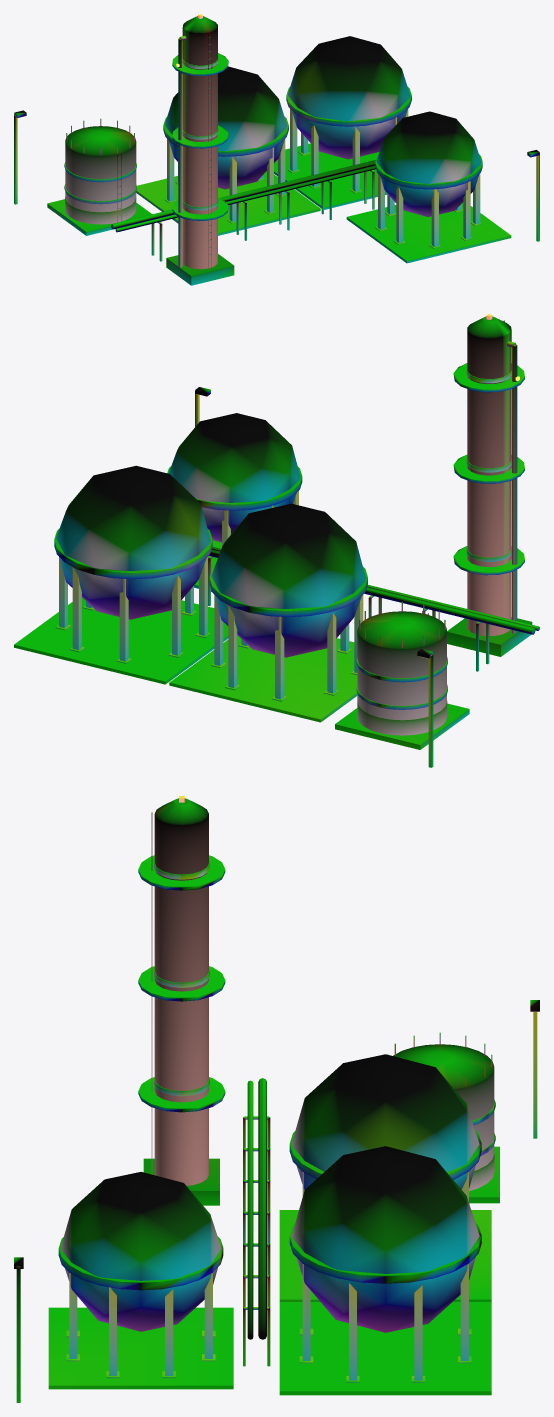
File: Ind_Spheres_V6.fbx
3 renders of one model, top to bottom at view 1: azimuth 30°, elevation 25°; view 2: azimuth 150°, elevation 25°; view 3: azimuth 270°, elevation 25°, orthographic. The views are drawn at different scales.
Parts seen in each view (by area): view 1: Ind_Spheres_V6_LOD0; view 2: Ind_Spheres_V6_LOD0; view 3: Ind_Spheres_V6_LOD0.
Part boxes in pixels (x1,y1,x2,y2): Ind_Spheres_V6_LOD0: (14, 14, 539, 285); Ind_Spheres_V6_LOD0: (14, 314, 539, 767); Ind_Spheres_V6_LOD0: (14, 796, 539, 1402).
Size of what is drawn, in the model's own units: 46.3 by 31.85 by 38.7.
